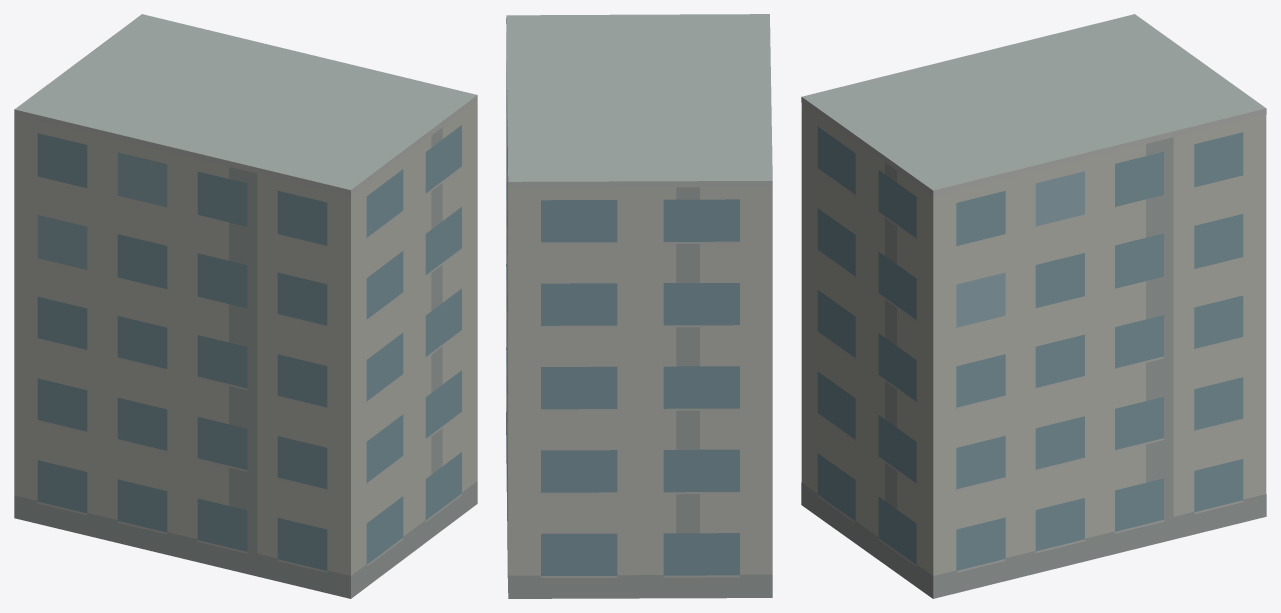
Rendered from survey-upis-32855554.glb.
The picture shows the model from 3 angles, left to right: view 1: azimuth 30°, elevation 25°; view 2: azimuth 150°, elevation 25°; view 3: azimuth 270°, elevation 25°; orthographic projection. The views are drawn at different scales.
Visible parts, largest first — view 1: survey-upis-32855554.tmp; view 2: survey-upis-32855554.tmp; view 3: survey-upis-32855554.tmp.
Part boxes in pixels (x1,y1,x2,y2): survey-upis-32855554.tmp: (14, 14, 477, 598); survey-upis-32855554.tmp: (506, 14, 772, 598); survey-upis-32855554.tmp: (801, 14, 1266, 598).
Bounding box in the file's own units: 15.59 × 16.8 × 17.34.
